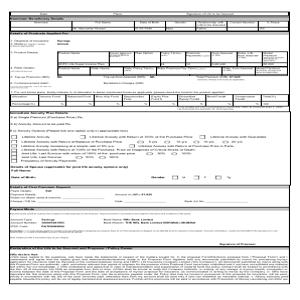table: (59, 51, 288, 76), (10, 11, 289, 31), (10, 94, 289, 107)
text: (10, 112, 270, 184), (11, 247, 289, 281), (10, 208, 281, 239), (11, 187, 257, 206), (12, 89, 226, 94), (11, 38, 71, 47), (10, 49, 41, 56)
